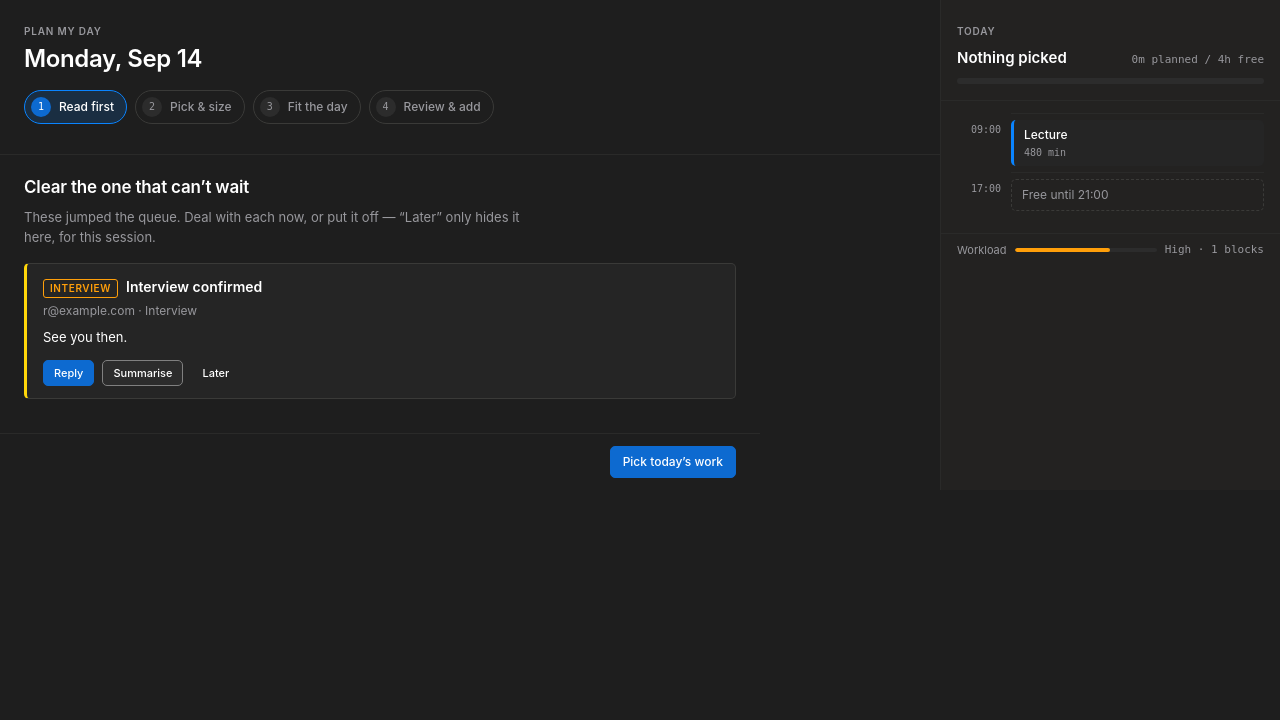
Scenario: Plan my day › moves focus to the new step's heading
Click the button "Pick today’s work" at (673, 462), box [610,446,736,478]
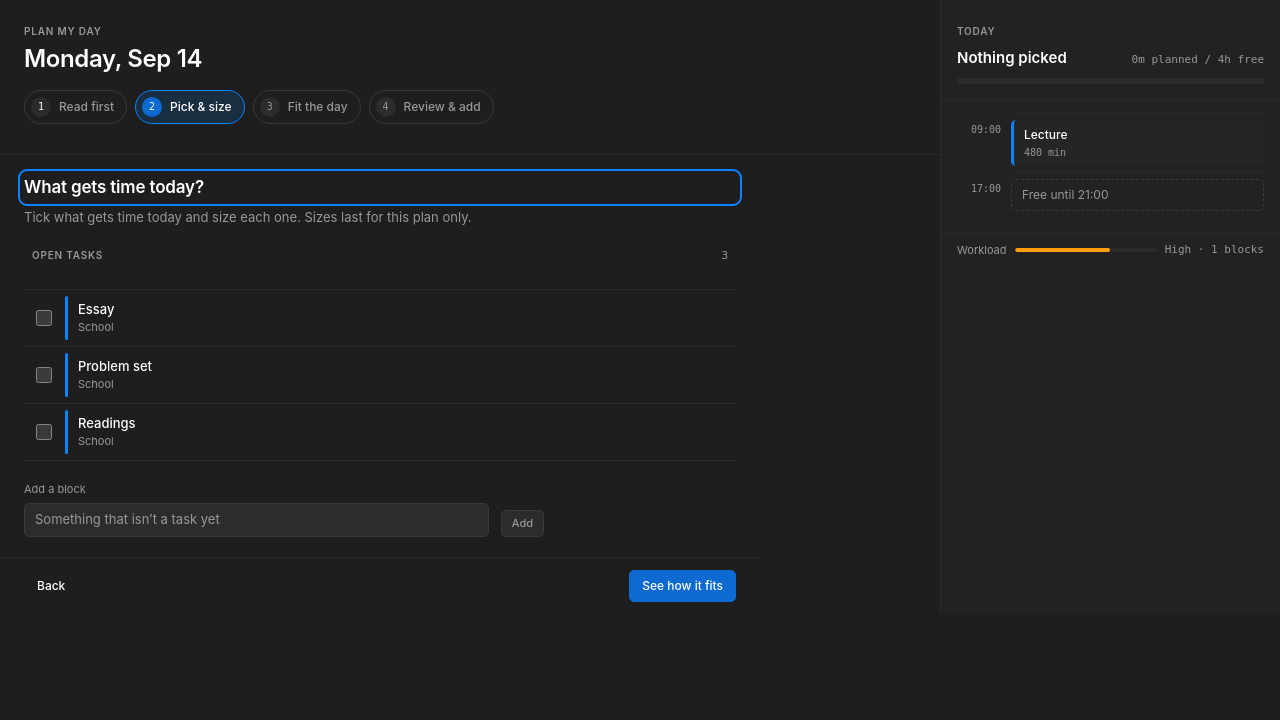
Check: the heading "What gets time today?" is shown, box [24,177,204,197]
